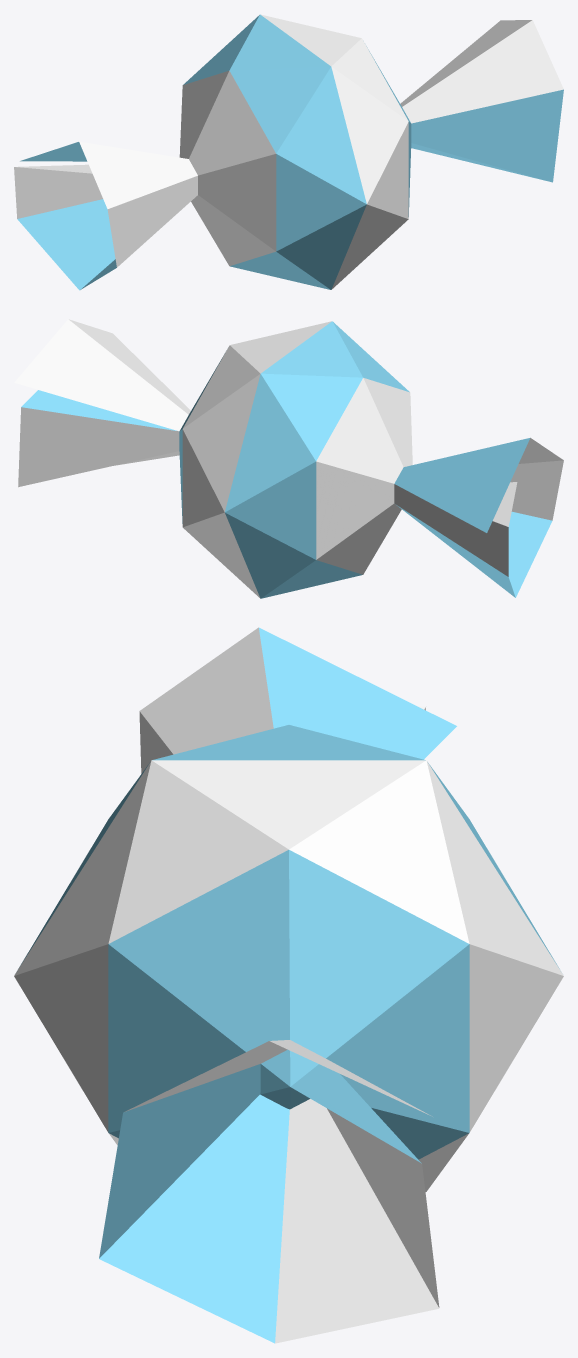
The model's file is candy_blue.fbx.
3 views of the same model, one above another, from view 1: azimuth 30°, elevation 25°; view 2: azimuth 150°, elevation 25°; view 3: azimuth 270°, elevation 25° (orthographic). The views are drawn at different scales.
Visible parts, largest first — view 1: candy_blue; view 2: candy_blue; view 3: candy_blue.
Part boxes in pixels (box(x1,y1,x2,y2)): candy_blue: box(14, 14, 563, 290); candy_blue: box(14, 319, 563, 598); candy_blue: box(14, 627, 563, 1343).
Size of the model in its own units: 6.54 by 2.86 by 3.3.
